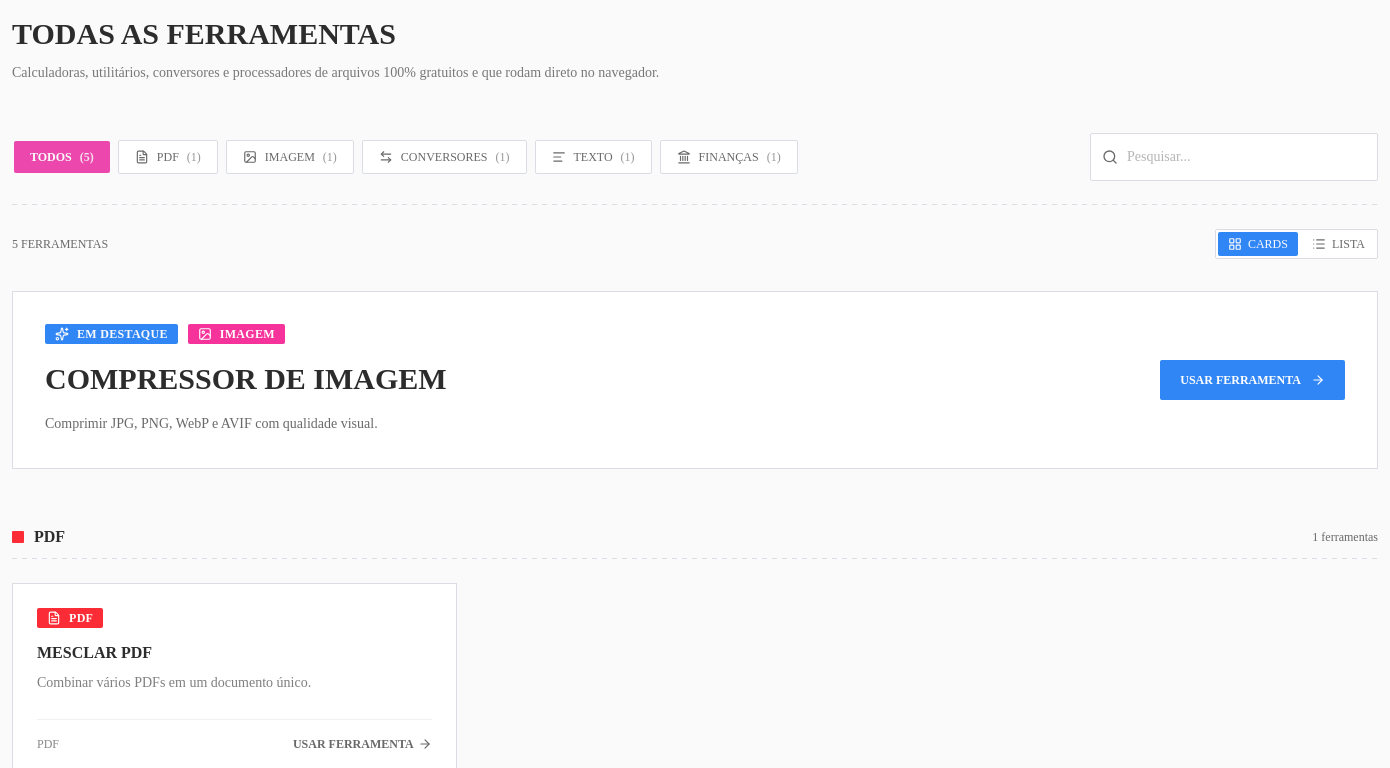
AppToolsHub › renders view mode toggle buttons and toggles between cards and 3-column list
Expected: the button with test id "view-mode-cards" is shown, [1218, 232, 1298, 256]
Note: Click list button
Click the button with test id "view-mode-list" at [1338, 244], box [1302, 232, 1375, 256]
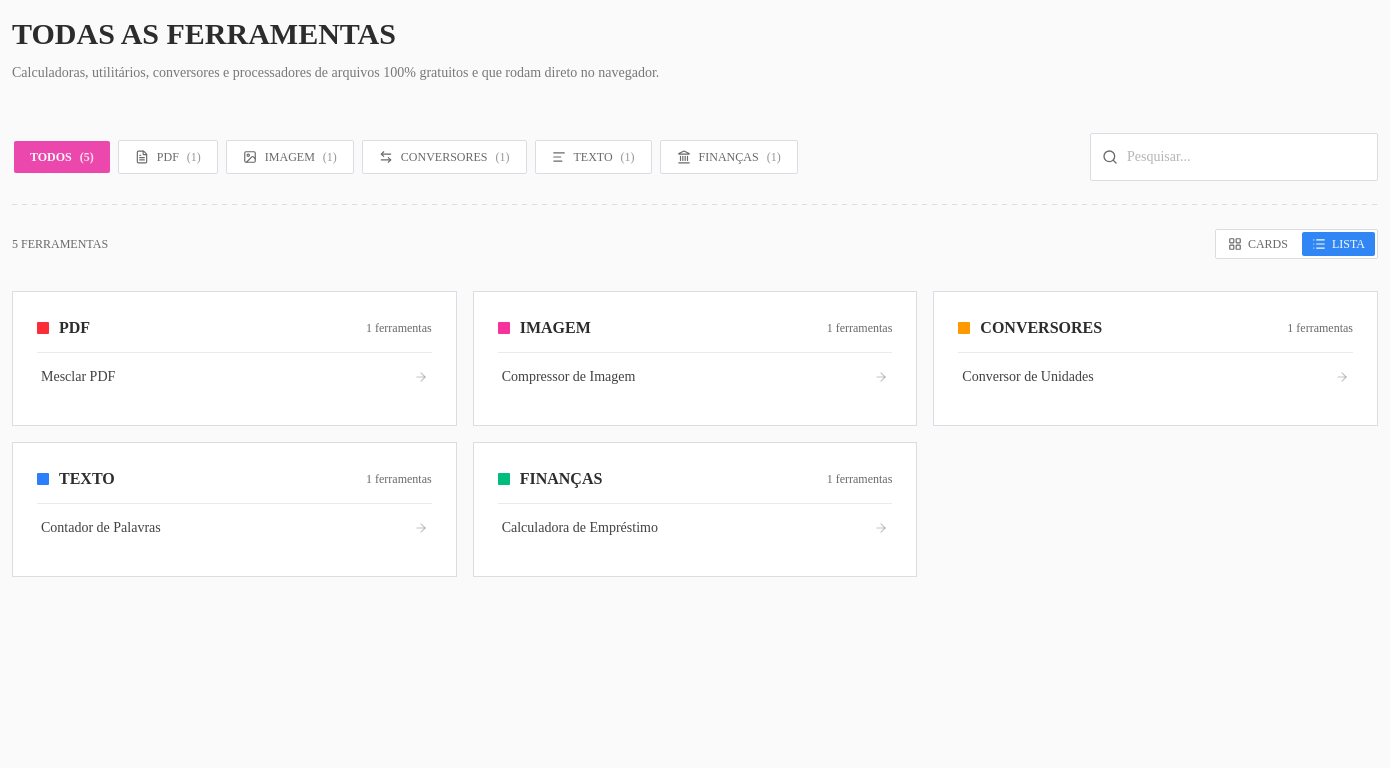
Expected: the text "Mesclar PDF" is shown, [41, 367, 115, 387]
Now the button with test id "view-mode-list" is pressed, box [1302, 232, 1375, 256]
Now the button with test id "view-mode-cards" is not pressed
Note: Click cards button to switch back
Click the button with test id "view-mode-cards" at [1258, 244], box [1218, 232, 1298, 256]
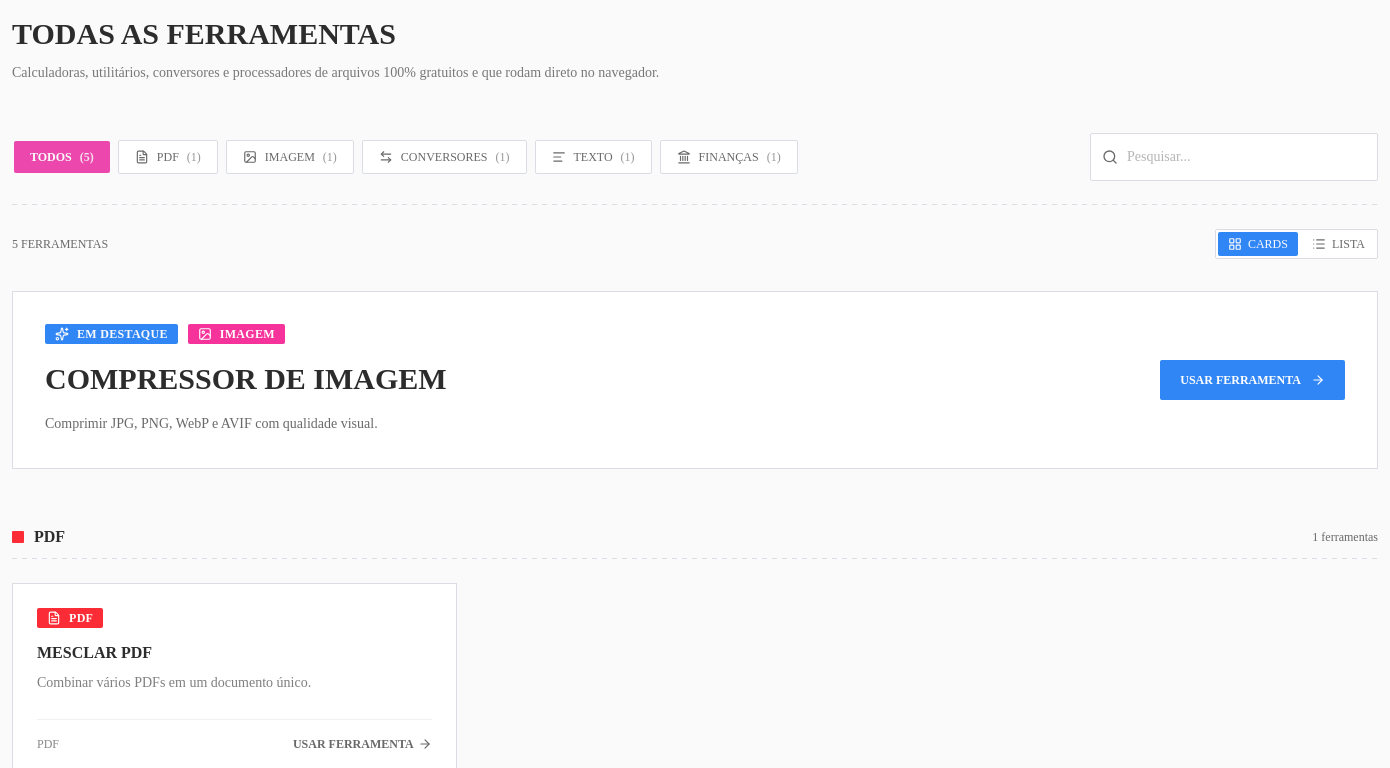
Now the text "EM DESTAQUE" is shown, box [77, 326, 168, 342]
